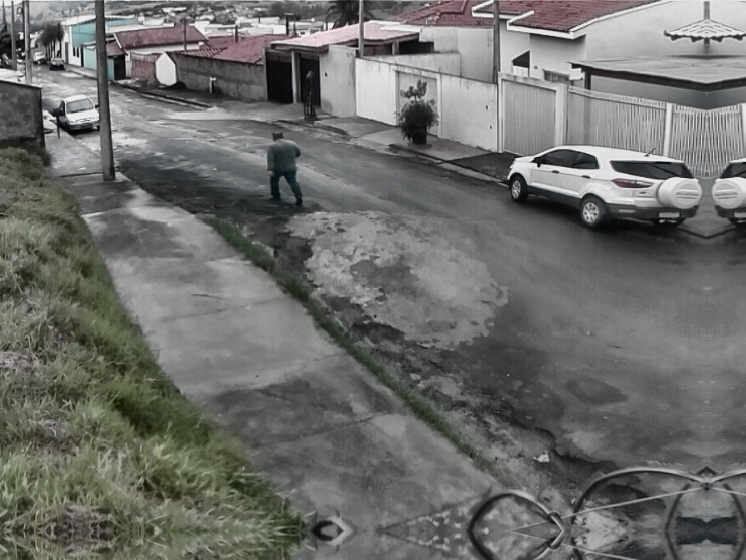person: (262, 130, 305, 207)
